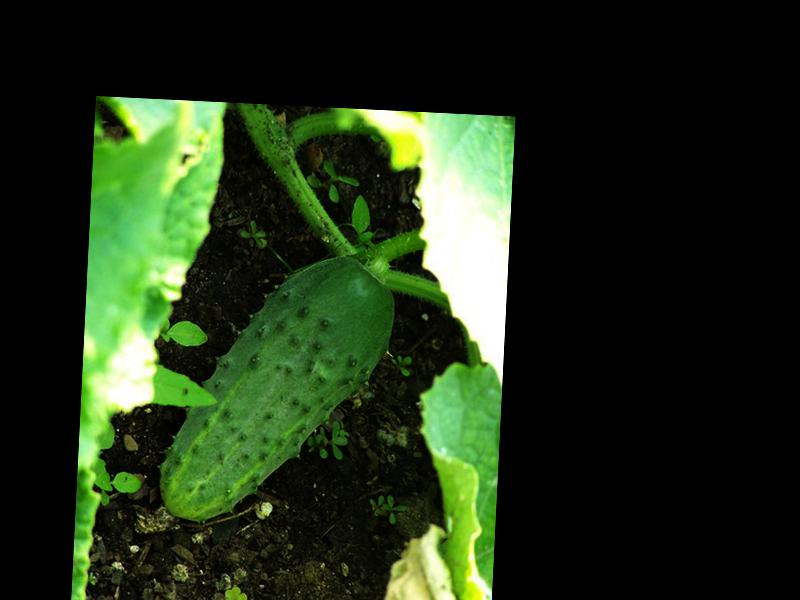Cucumber: (157, 246, 398, 530)
